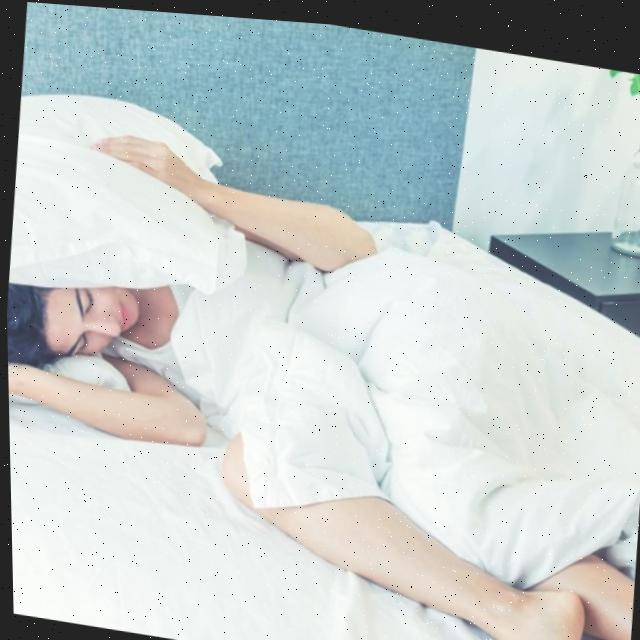sleeping-person: (1, 70, 640, 640)
